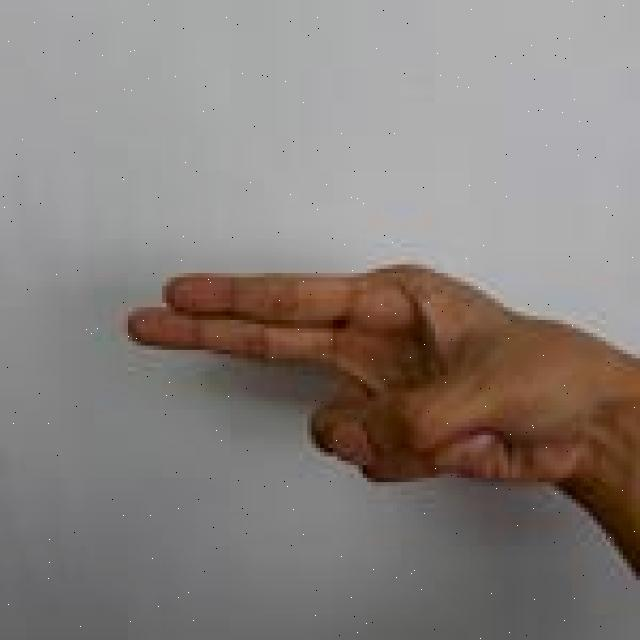H: (120, 256, 640, 604)
